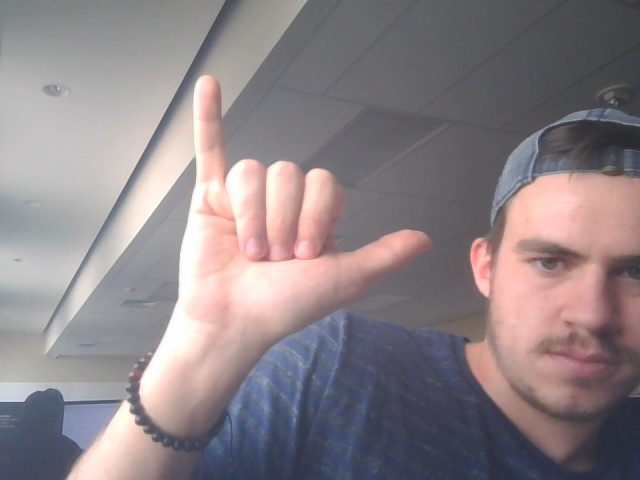birdsup: (176, 70, 441, 350)
